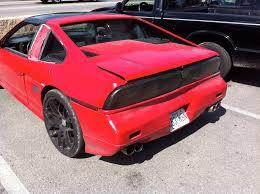Dickey: (94, 43, 218, 84)
Windshield: (61, 17, 195, 65)
